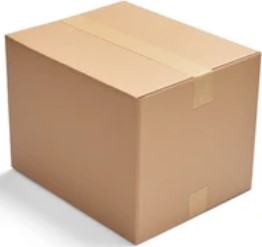stock: (6, 4, 261, 243)
